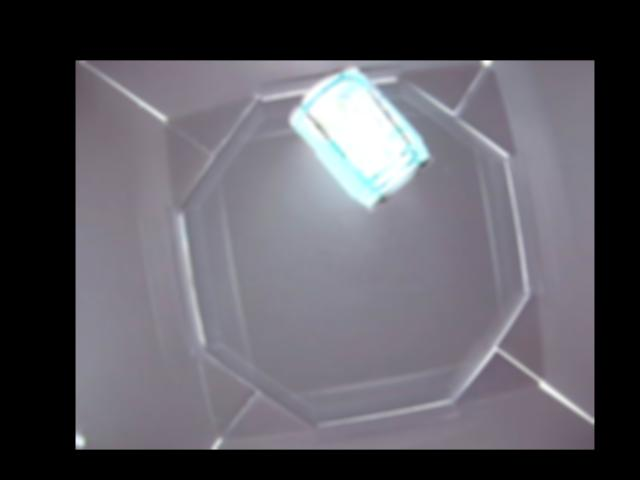Bottle: (287, 69, 430, 209)
